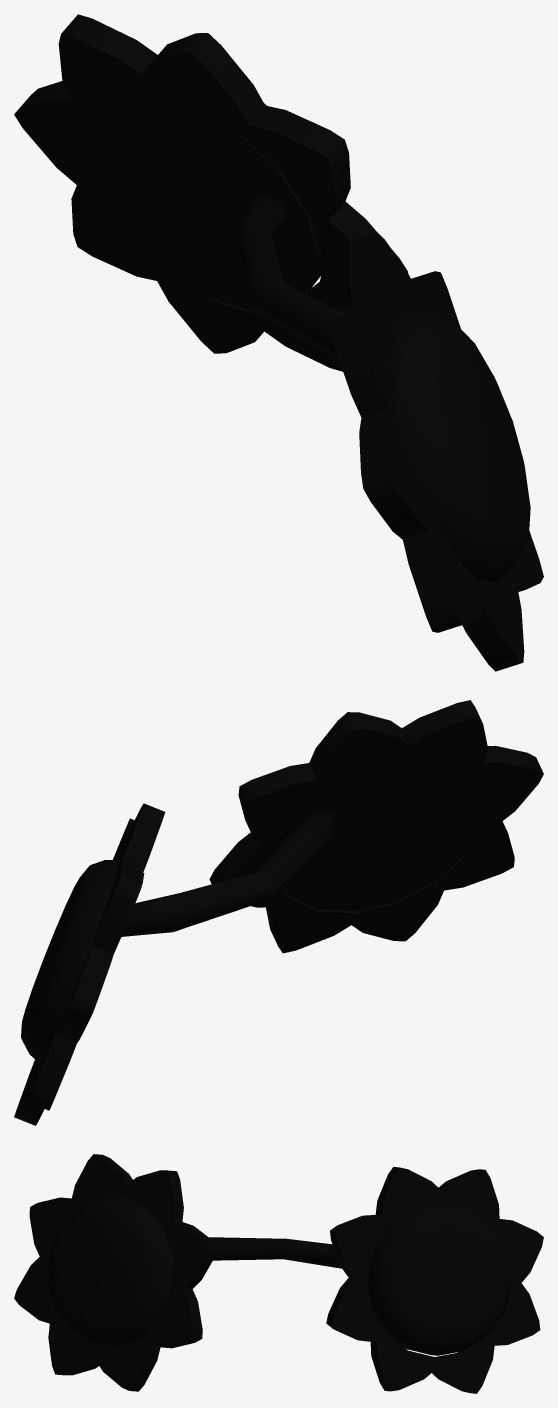
Rendered from glasses.fbx.
3 renders of one model, top to bottom at view 1: azimuth 30°, elevation 25°; view 2: azimuth 150°, elevation 25°; view 3: azimuth 270°, elevation 25°, orthographic. The views are drawn at different scales.
Visible parts, largest first — view 1: Slime_Sunglass.001, Slime_Sunglass.003; view 2: Slime_Sunglass.001, Slime_Sunglass.003; view 3: Slime_Sunglass.001, Slime_Sunglass.003.
Part boxes in pixels (left/top/right/bottom): Slime_Sunglass.001: left=14, top=14, right=543, bottom=671; Slime_Sunglass.003: left=77, top=91, right=530, bottom=583; Slime_Sunglass.001: left=14, top=700, right=543, bottom=1125; Slime_Sunglass.003: left=21, top=757, right=483, bottom=1062; Slime_Sunglass.001: left=14, top=1154, right=543, bottom=1393; Slime_Sunglass.003: left=47, top=1197, right=512, bottom=1355.
Size of the model in its own units: 69.04 by 81.2 by 182.
